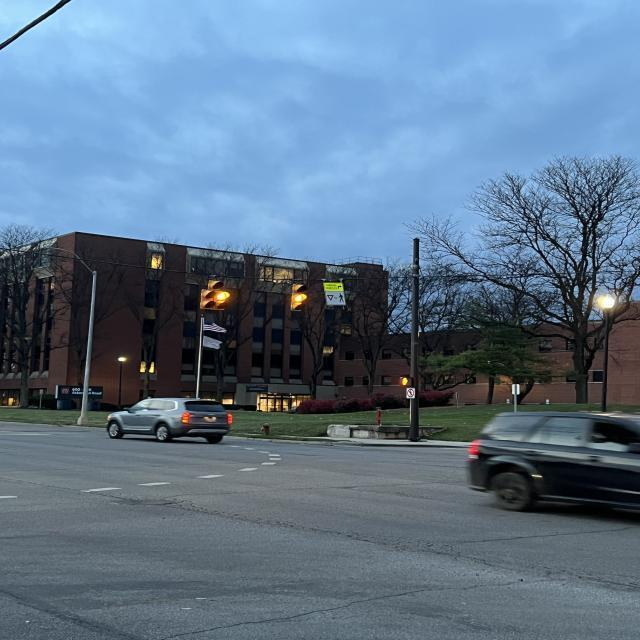yellow_light: (194, 273, 240, 316), (286, 280, 314, 315), (398, 371, 416, 388)
